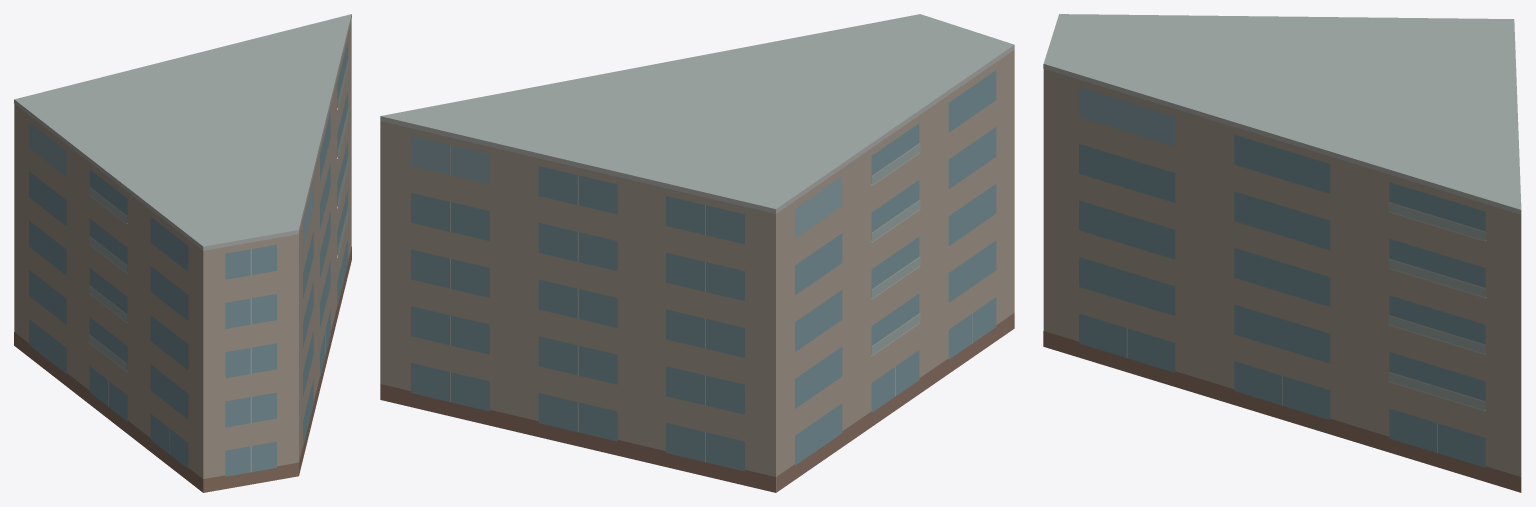
The model's file is survey-upis-32811272.glb.
3 views of the same model, side by side, from view 1: azimuth 30°, elevation 25°; view 2: azimuth 150°, elevation 25°; view 3: azimuth 270°, elevation 25° (orthographic). The views are drawn at different scales.
Visible parts, largest first — view 1: survey-upis-32811272.tmp; view 2: survey-upis-32811272.tmp; view 3: survey-upis-32811272.tmp.
Boxes of the visible parts, box(x1,y1,x2,y2) form: survey-upis-32811272.tmp: box(14, 14, 351, 492); survey-upis-32811272.tmp: box(380, 14, 1014, 492); survey-upis-32811272.tmp: box(1043, 14, 1521, 492).
Bounding box in the file's own units: 21.25 × 14.3 × 21.9.
